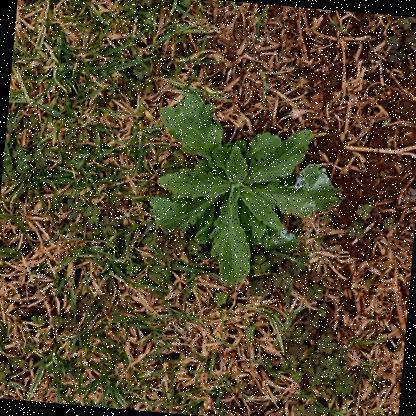Weeds: (141, 92, 349, 295)
